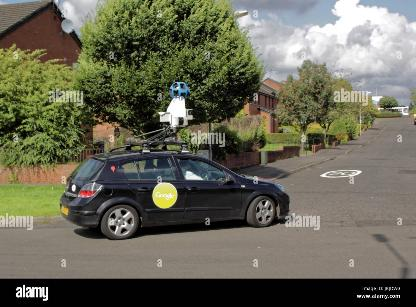car: (56, 148, 294, 239)
tree: (77, 0, 268, 135)
